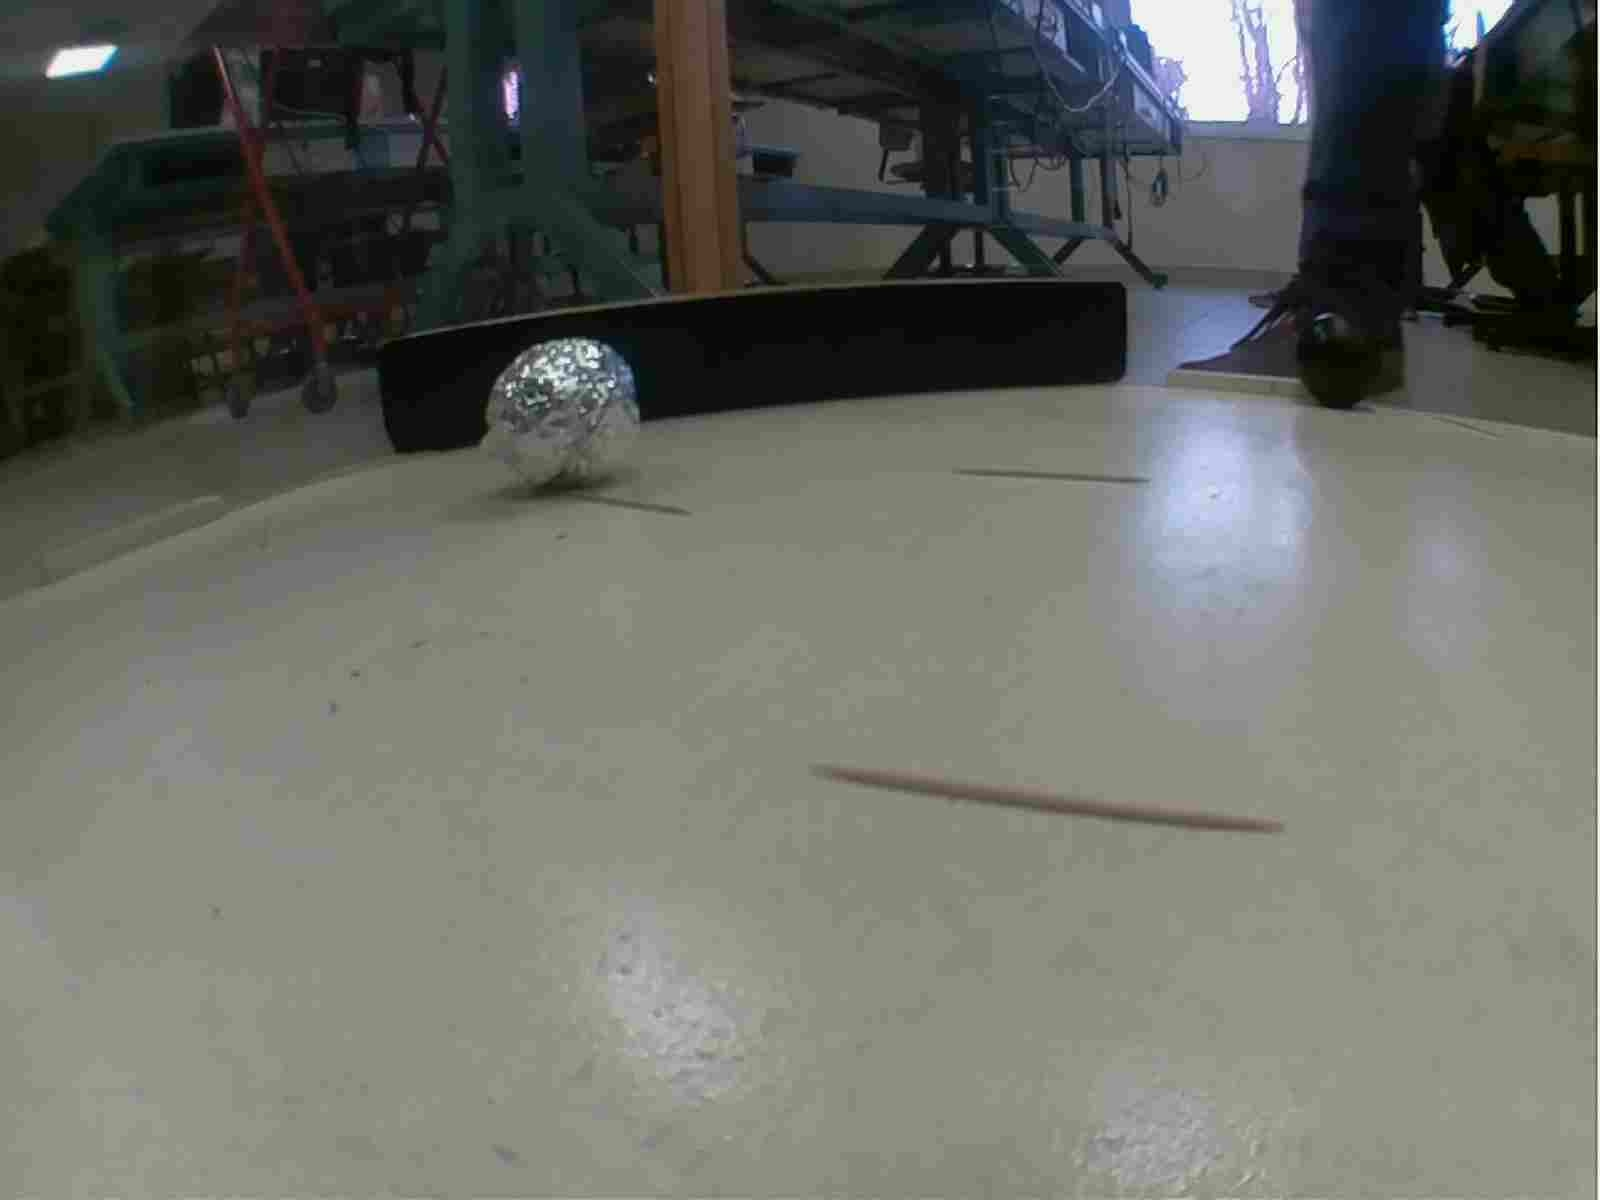bianca: (483, 338, 643, 498)
nera: (1293, 309, 1386, 412)
